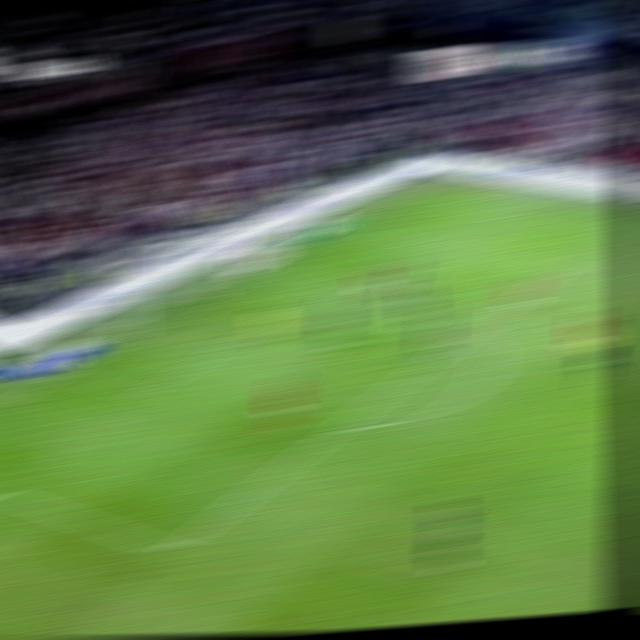bigarea_bottom_inner: (153, 535, 195, 564)
bigarea_top_inner: (543, 255, 582, 280)
bigarea_top_outter: (333, 221, 368, 235)
bottom_arc_area_intersection: (318, 415, 357, 440)
corner: (423, 176, 457, 189)
smallarea_bottom_inner: (124, 381, 162, 405)
smallarea_bottom_outter: (48, 366, 83, 380)
smallarea_top_inner: (310, 280, 343, 296)
smallarea_top_outter: (242, 263, 281, 281)
top_arc_area_intersection: (453, 322, 492, 344)
